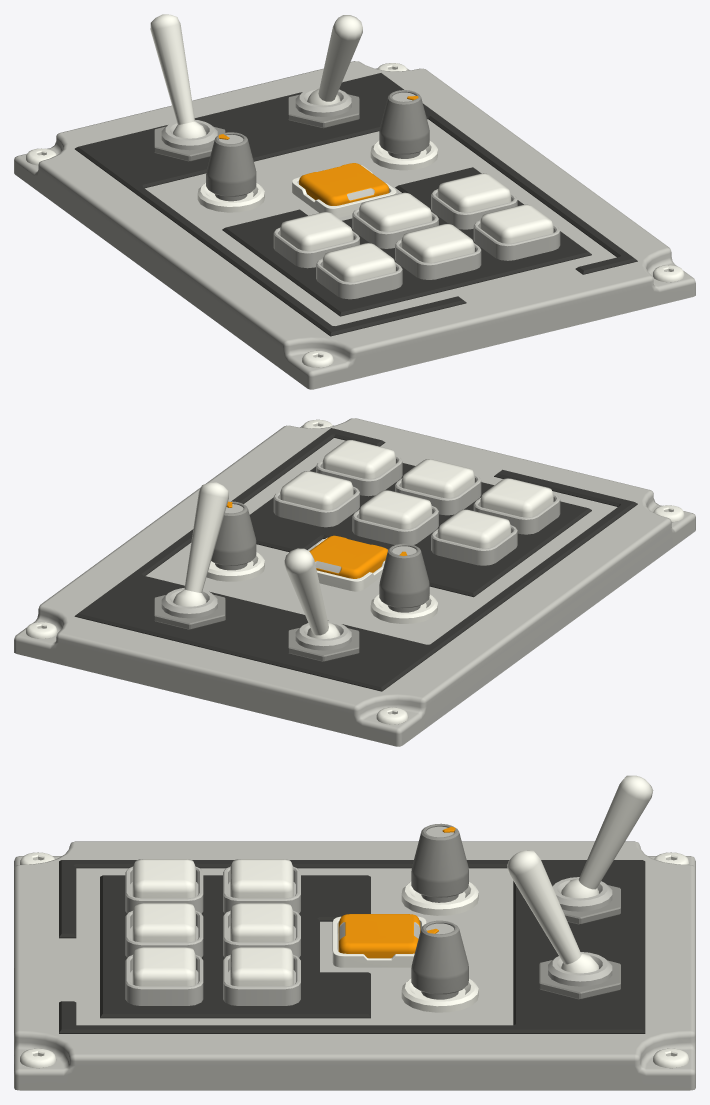
The model's file is control_panel_15.fbx.
3 renders of one model, top to bottom at view 1: azimuth 30°, elevation 25°; view 2: azimuth 150°, elevation 25°; view 3: azimuth 270°, elevation 25°, orthographic. The views are drawn at different scales.
Parts seen in each view (by area): view 1: control_panel_15; view 2: control_panel_15; view 3: control_panel_15.
Part boxes in pixels (bbox=[...]): control_panel_15: bbox=[14, 14, 695, 389]; control_panel_15: bbox=[14, 418, 695, 746]; control_panel_15: bbox=[14, 775, 695, 1090].
Size of the model in its own units: 18.52 by 6.66 by 24.62.
